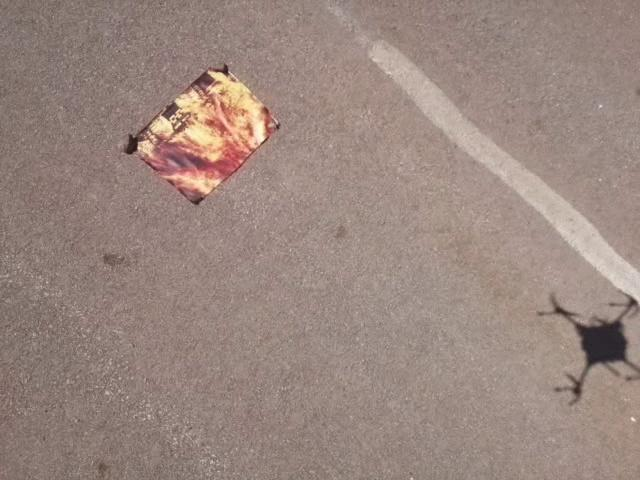fire-poster: (125, 61, 281, 207)
